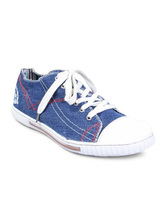shoesd: (7, 60, 158, 156)
